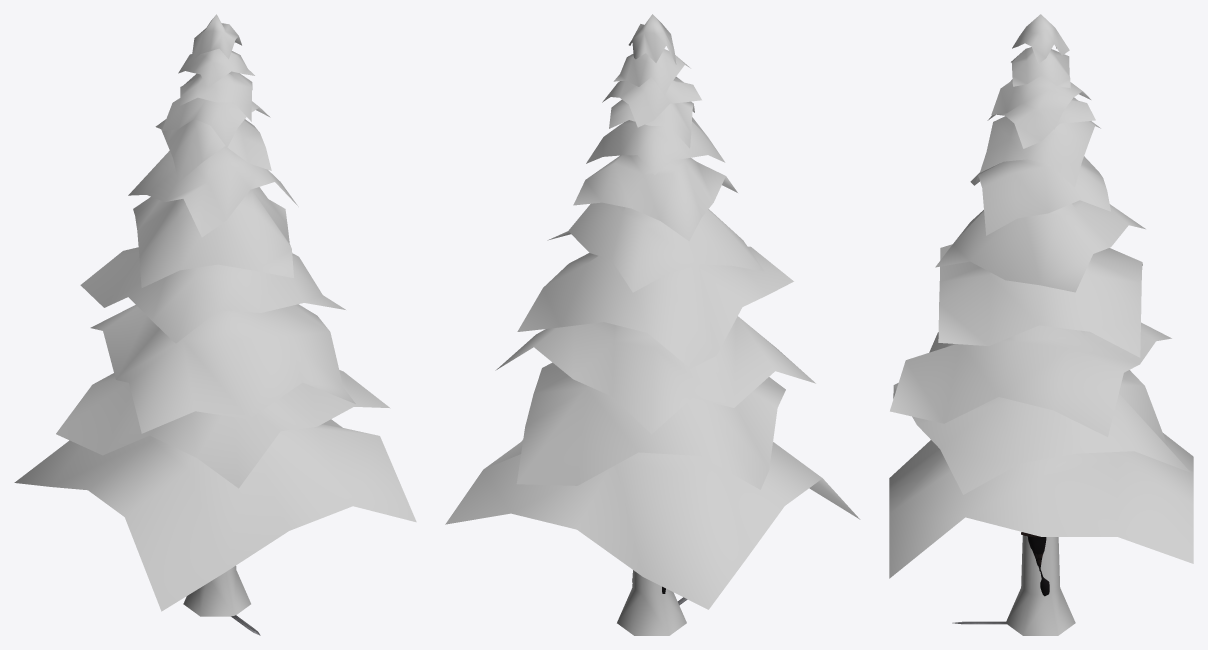
The model's file is pine3.obj.
3 views of the same model, side by side, from view 1: azimuth 30°, elevation 25°; view 2: azimuth 150°, elevation 25°; view 3: azimuth 270°, elevation 25° (orthographic). The views are drawn at different scales.
Parts seen in each view (by area): view 1: Grid; view 2: Grid; view 3: Grid, Plane002_Untitled.002.
Part boxes in pixels (bbox=[...]): Grid: bbox=[14, 14, 416, 616]; Grid: bbox=[445, 14, 860, 635]; Grid: bbox=[889, 14, 1193, 635]; Plane002_Untitled.002: bbox=[1021, 532, 1049, 596].
Bounding box in the file's own units: 2.64 × 5.56 × 2.51.
4 materials, 3 textured.
